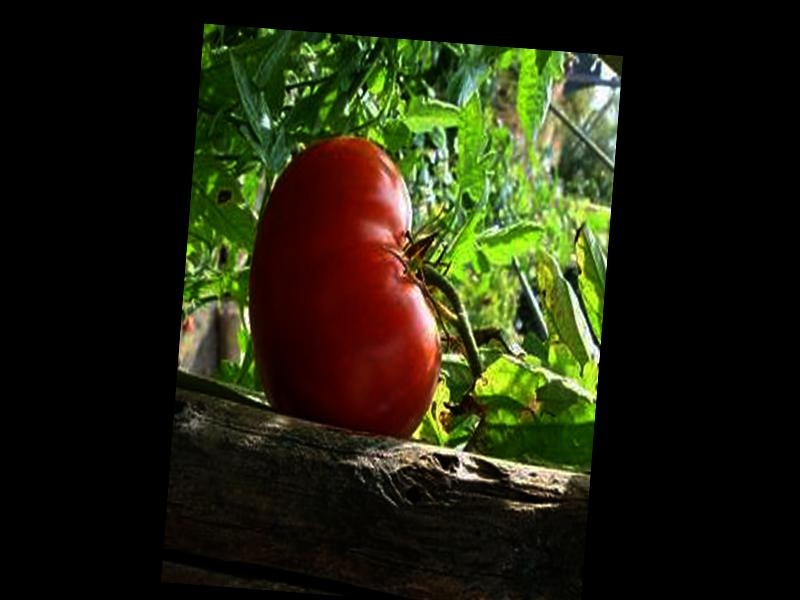Tomato: (240, 128, 457, 445)
